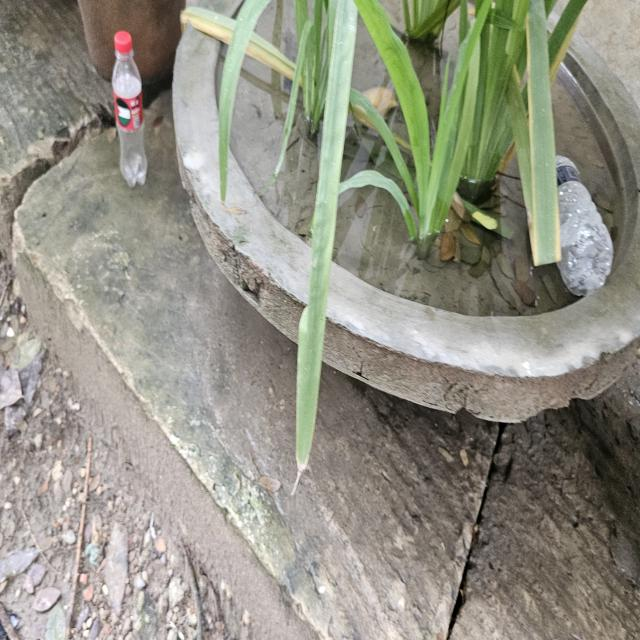artificial_container: (172, 0, 640, 423), (535, 150, 615, 296), (79, 2, 185, 84), (111, 30, 151, 187)
